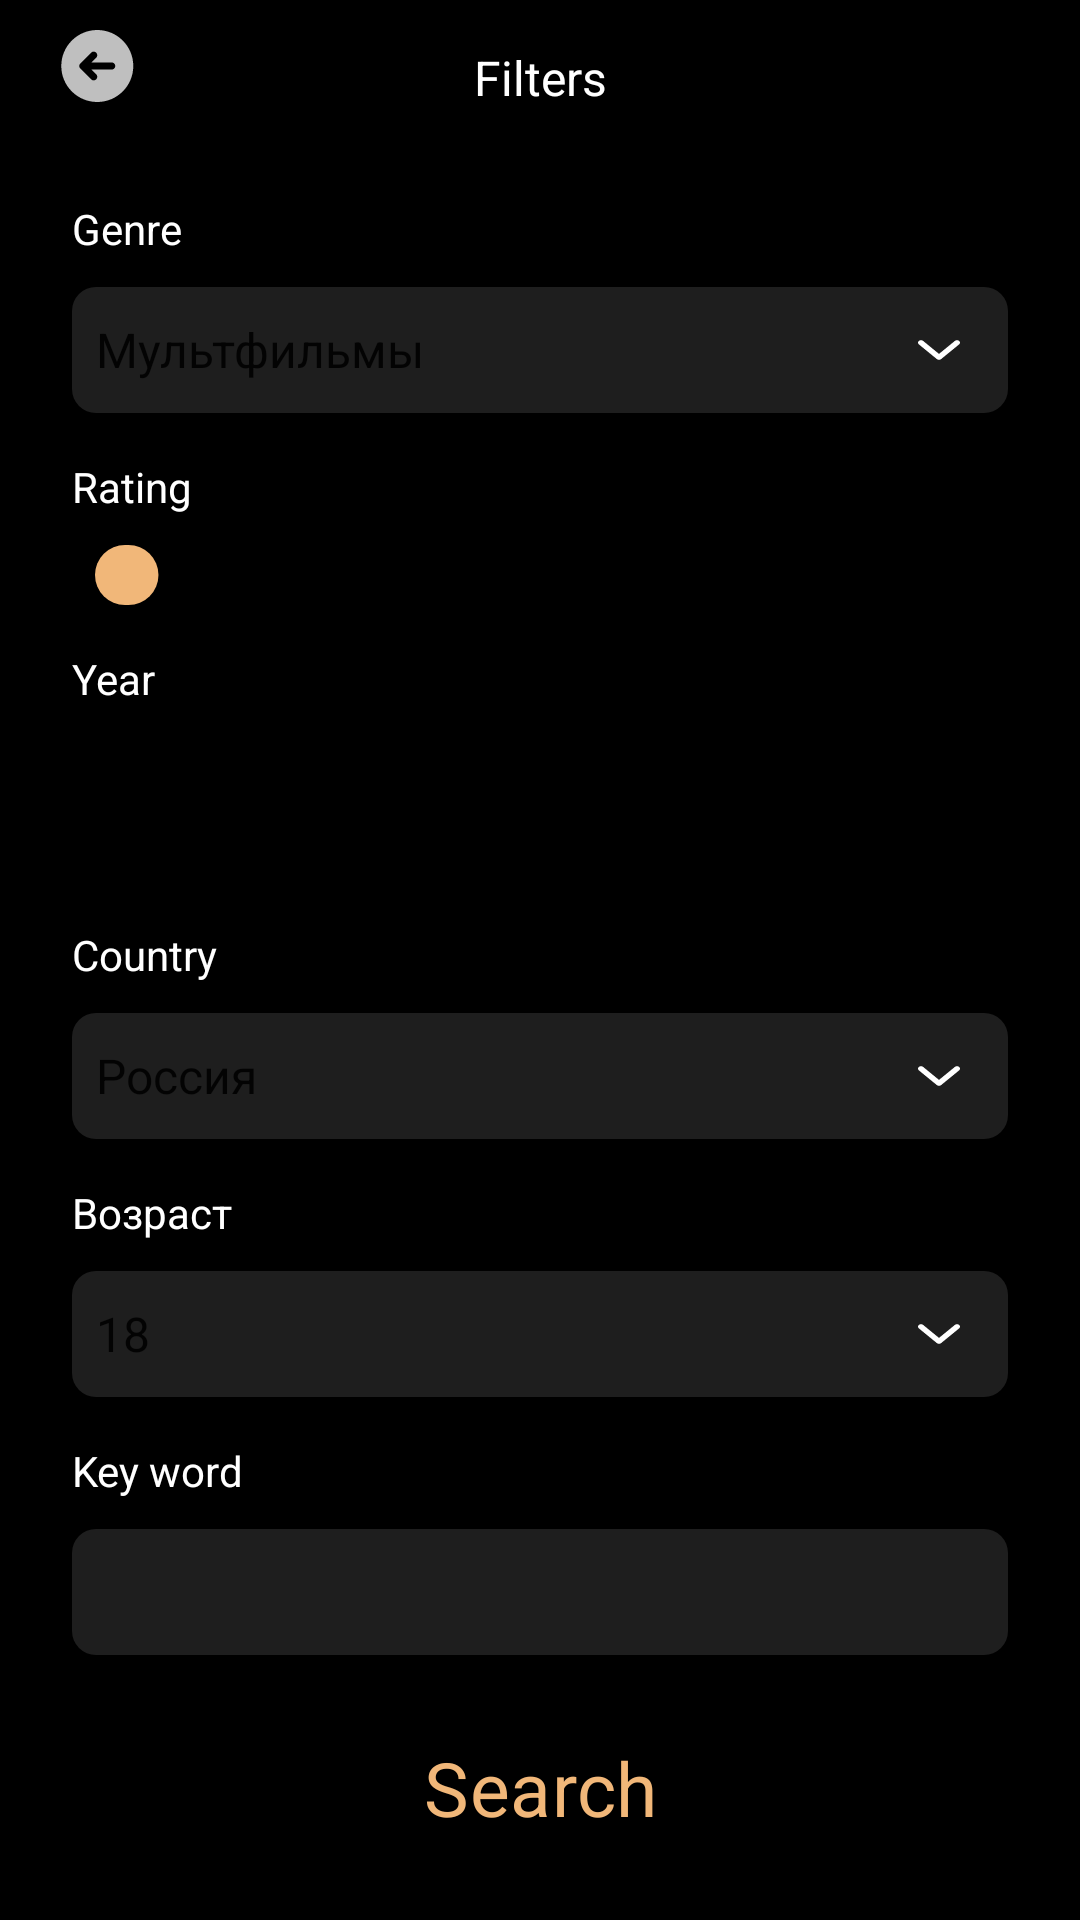

Screen size 1080px x 1920px. Icon name, then its center in pixels as [x,y]:
back button: [97,66]
